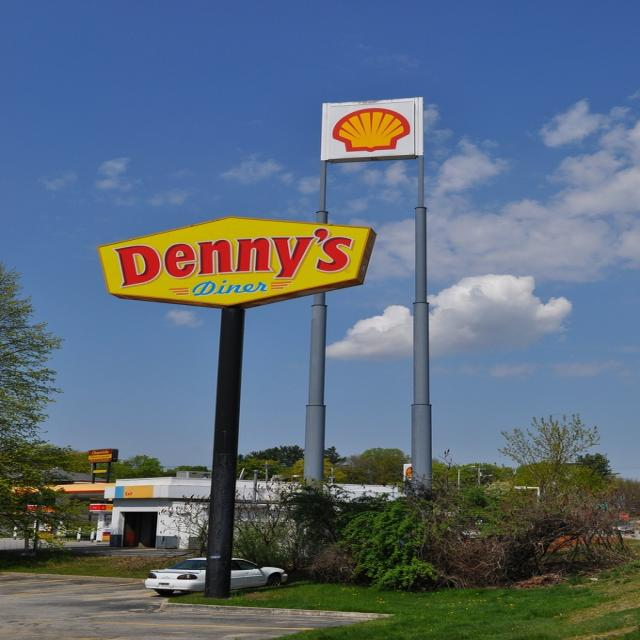shell: (330, 106, 411, 155)
